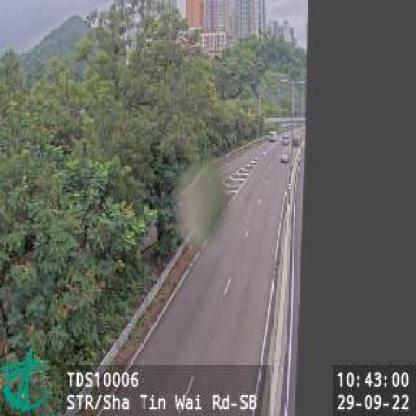Car: (279, 149, 290, 163), (280, 134, 288, 146)
